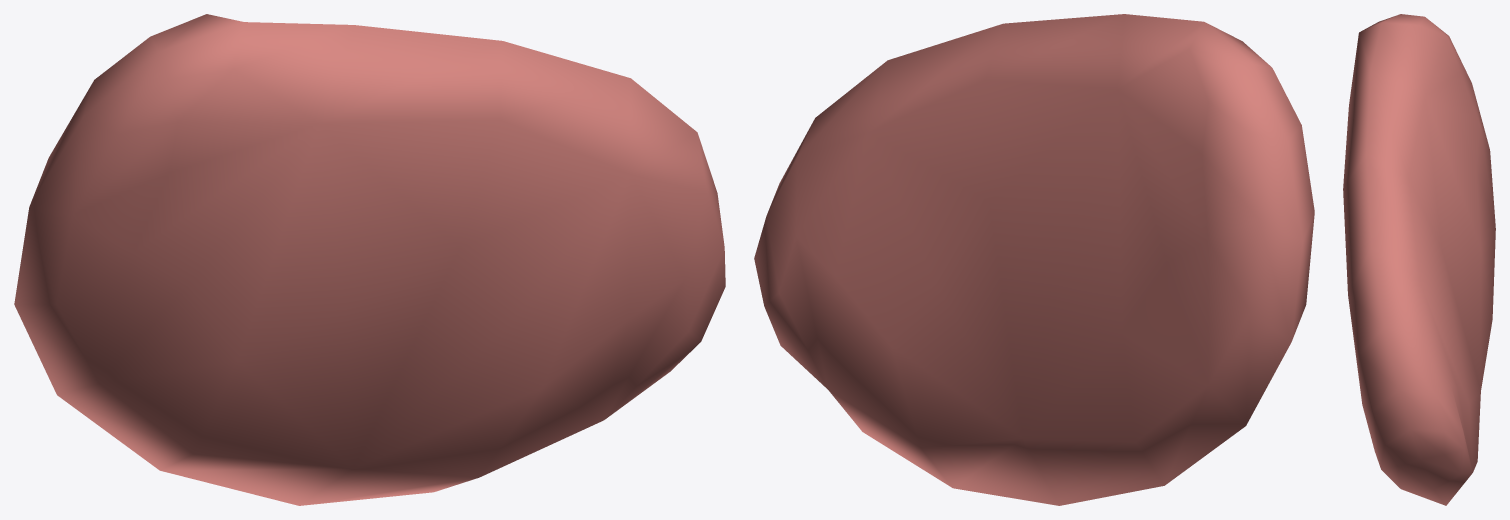
3 views of the same model, side by side, from view 1: azimuth 30°, elevation 25°; view 2: azimuth 150°, elevation 25°; view 3: azimuth 270°, elevation 25° (orthographic). The views are drawn at different scales.
Visible parts, largest first — view 1: ZA_5cb08b66dfc2304e; view 2: ZA_5cb08b66dfc2304e; view 3: ZA_5cb08b66dfc2304e.
Part boxes in pixels (x1,y1,x2,y2): ZA_5cb08b66dfc2304e: [14, 14, 725, 505]; ZA_5cb08b66dfc2304e: [754, 14, 1314, 505]; ZA_5cb08b66dfc2304e: [1343, 14, 1495, 505].
Bounding box in the file's own units: 0.00266 × 0.00219 × 0.00078.
